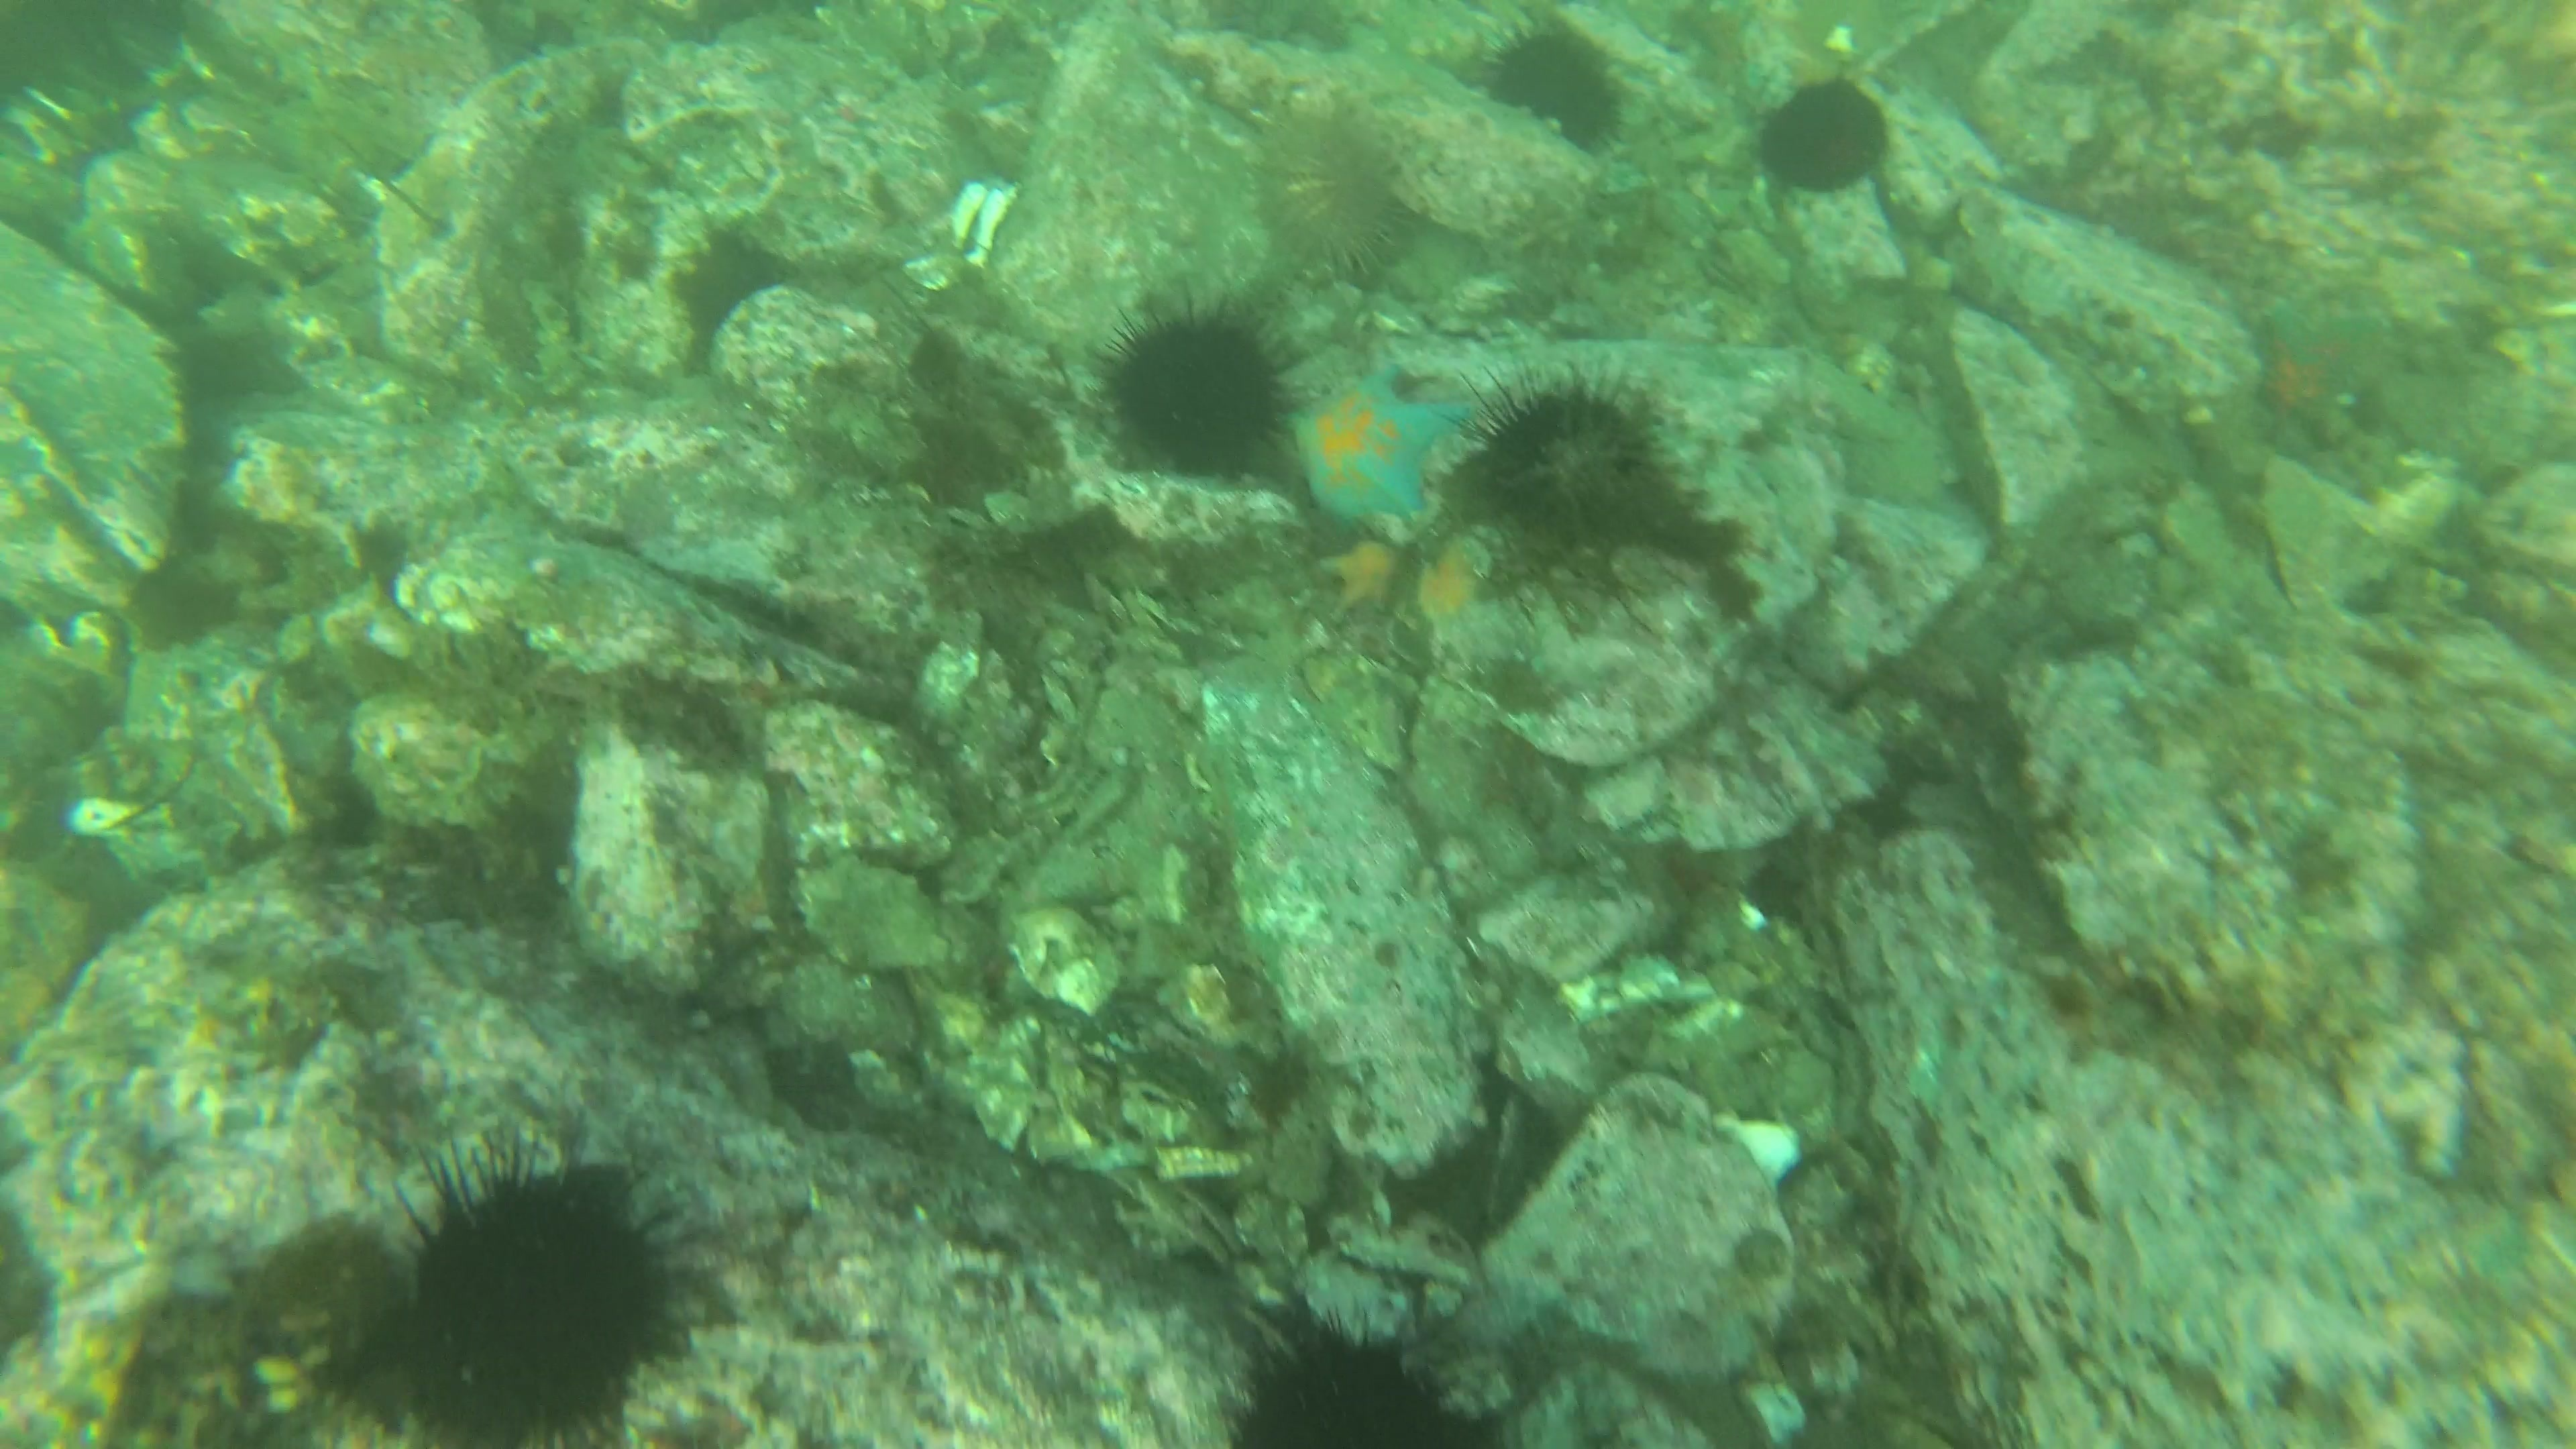echinus: (354, 1136, 706, 1444), (1460, 364, 1677, 550), (1092, 294, 1299, 483), (1212, 1304, 1483, 1444), (1240, 99, 1415, 283), (1474, 14, 1635, 157), (1748, 73, 1898, 202)
starfish: (1279, 357, 1465, 538), (2240, 292, 2385, 453), (1407, 533, 1497, 637), (1316, 531, 1415, 621)
